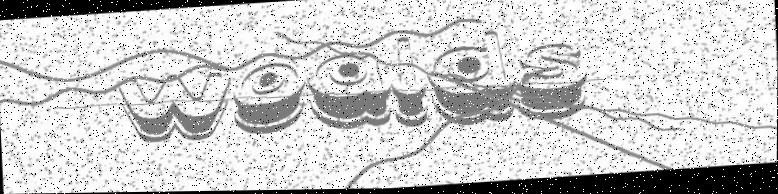a: (304, 49, 394, 135)
d: (426, 29, 524, 135)
l: (383, 35, 433, 133)
o: (230, 61, 312, 137)
s: (516, 43, 590, 123)
w: (104, 69, 235, 147)
